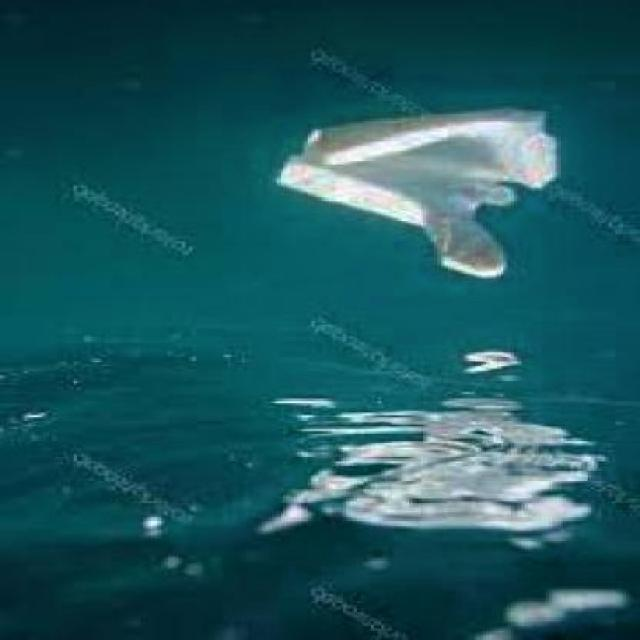pbag: (276, 107, 559, 281)
